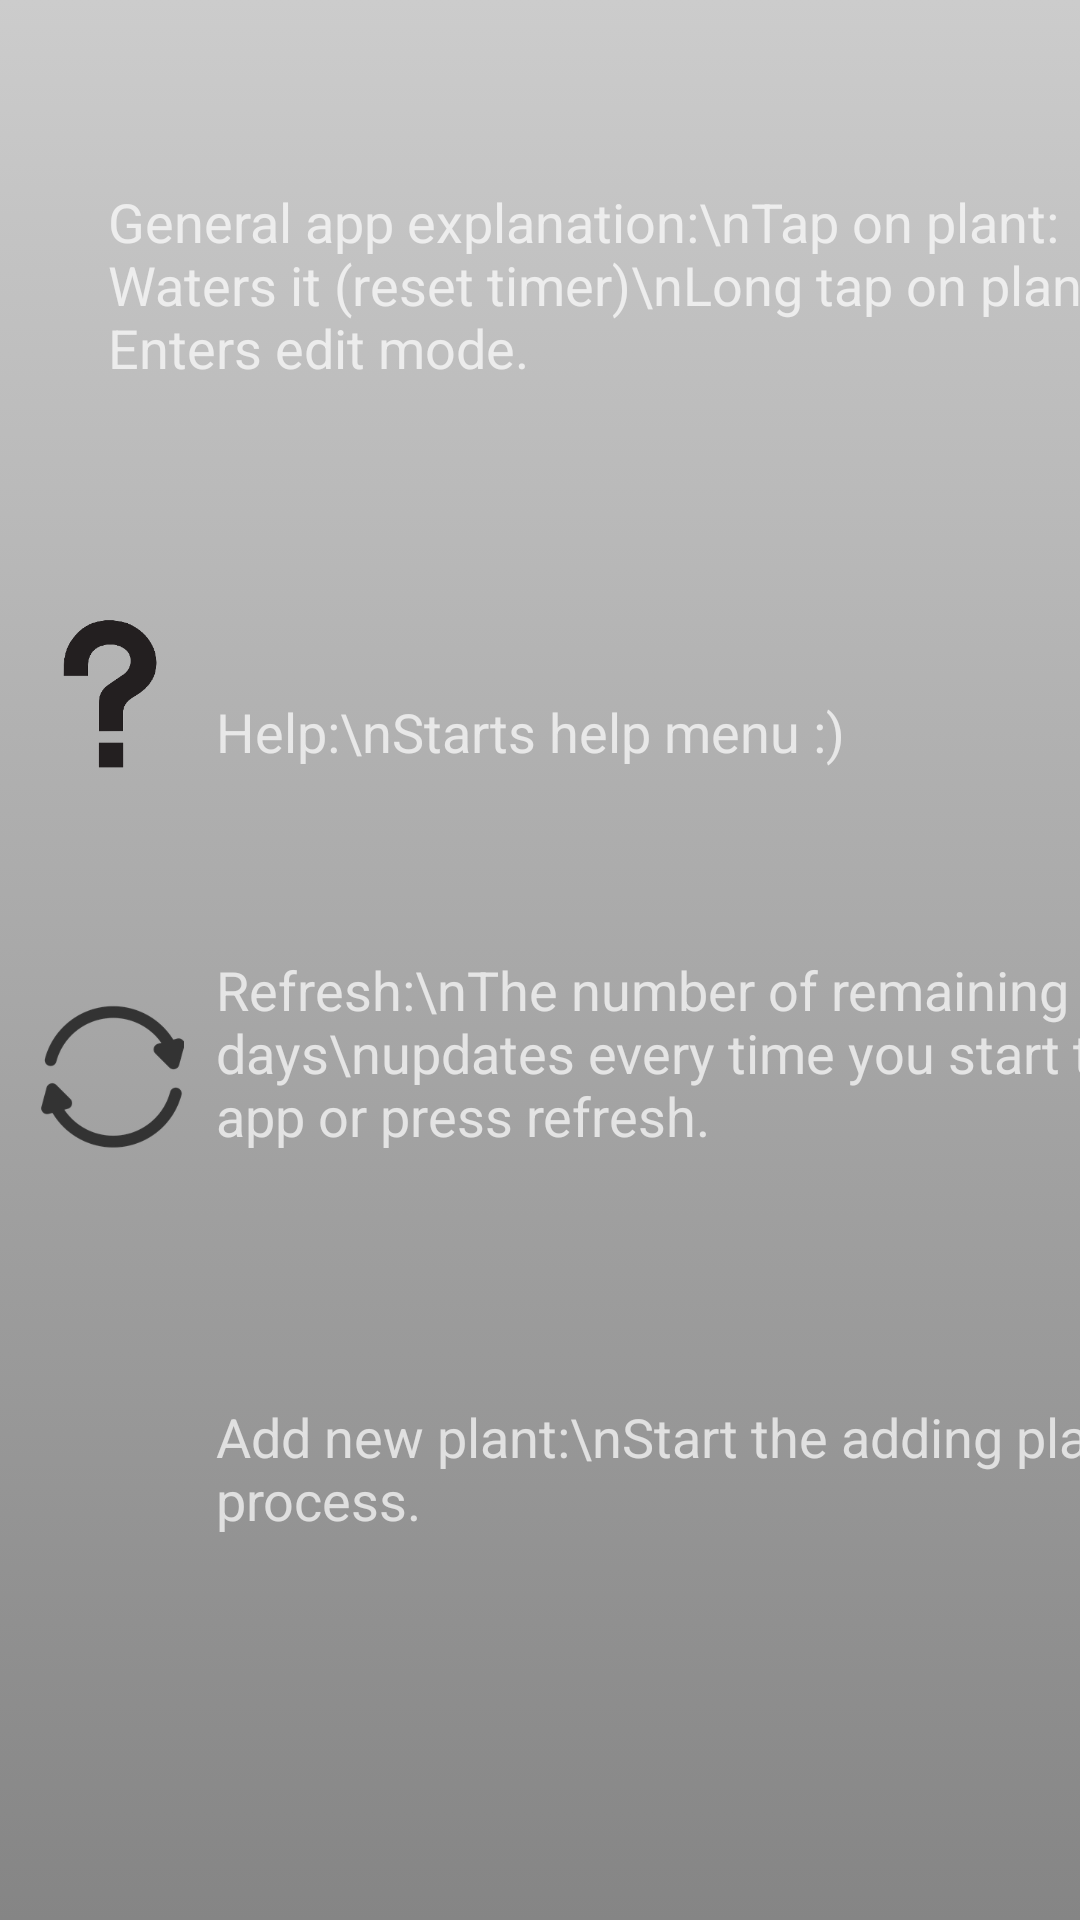

Where to tap for icons on this 1080×1920 app screen, as (x=x, y=y):
restart: (x=112, y=1077)
